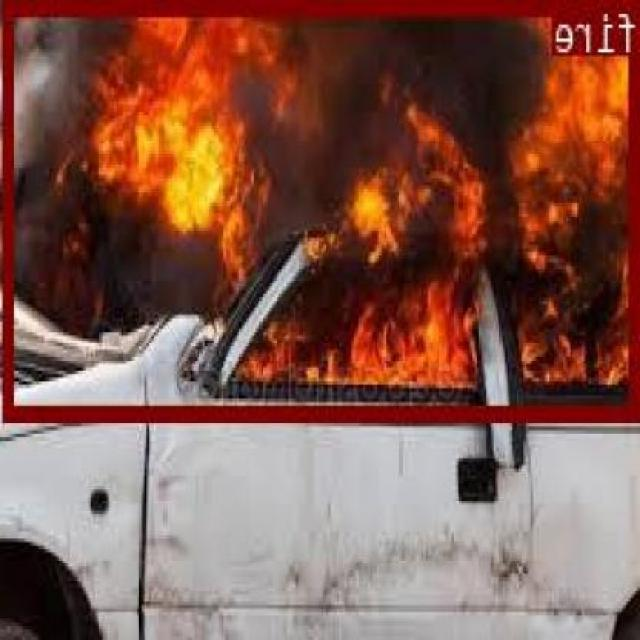fire: (8, 0, 640, 415)
